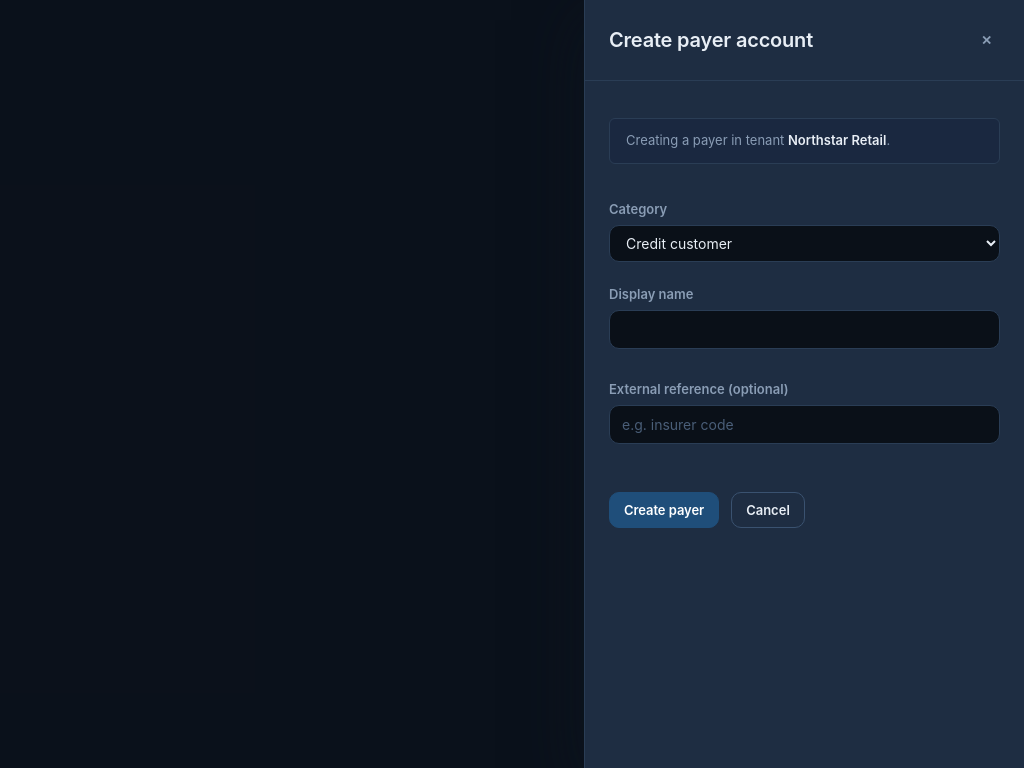
it: PayerCreate › 403 -> permission banner
In the field labelled "Display name": (804,330) [609, 310, 1000, 349], type "MedCover Insurance"
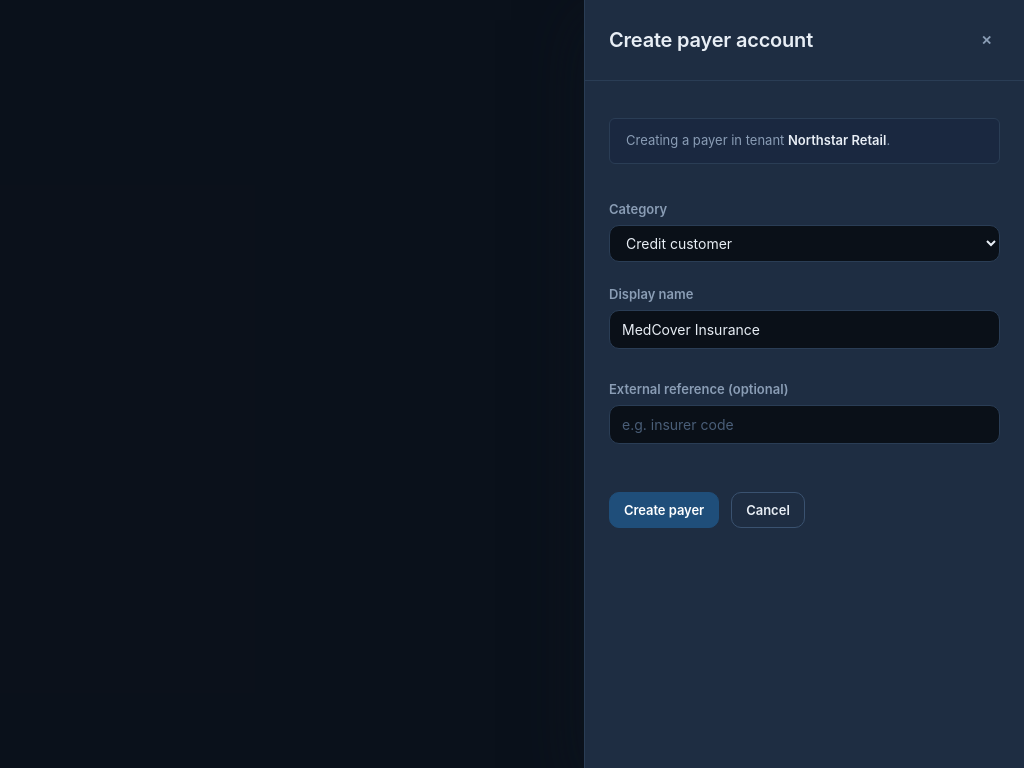
Click the button "Create payer": (664,510) [609, 492, 719, 528]
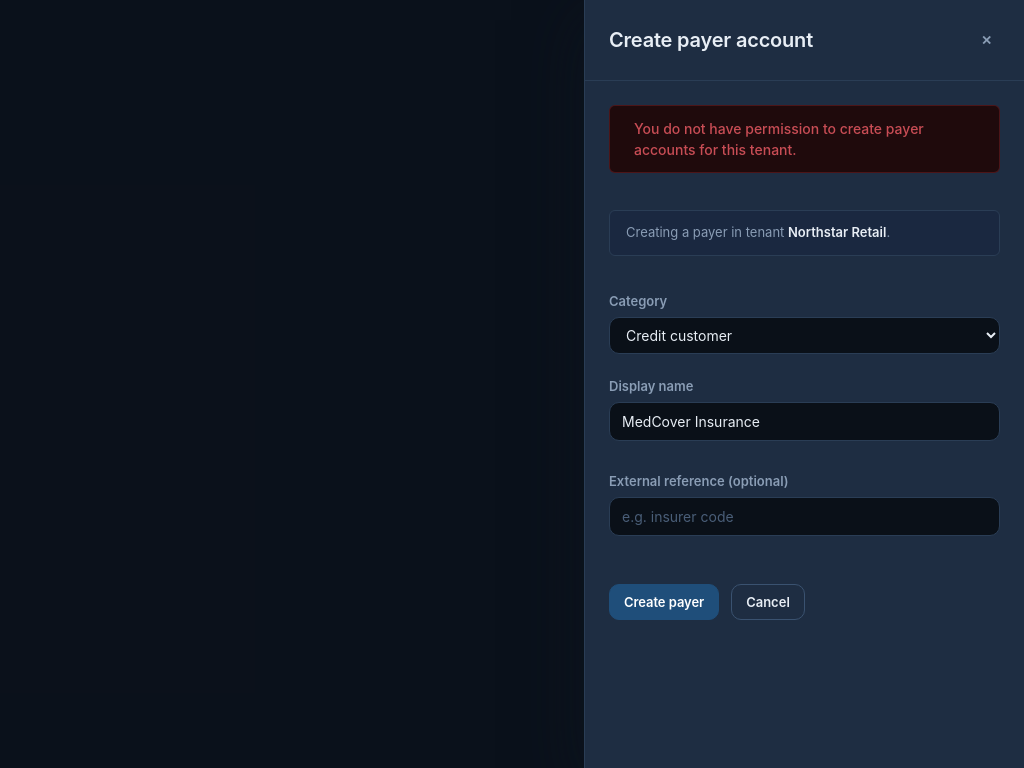
Check: the text "permission" is shown, box [634, 120, 924, 158]
